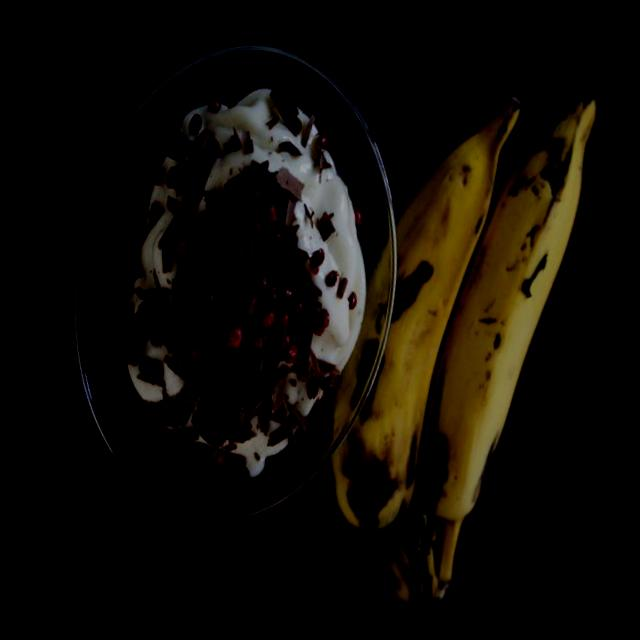Banana: (298, 62, 610, 630)
